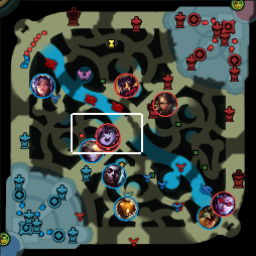bard: (113, 195, 138, 221)
ekko: (101, 164, 125, 187)
ezreal: (78, 137, 103, 162)
irelia: (30, 72, 55, 97)
lulu: (94, 122, 119, 146)
nidalee: (152, 91, 177, 117)
renekton: (197, 203, 221, 228)
vayne: (210, 191, 235, 216)
viktor: (113, 72, 139, 97)
